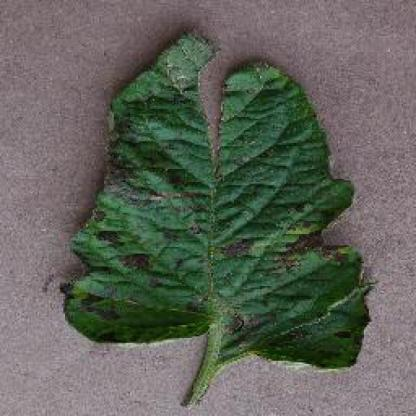Tomato_Blight: (64, 32, 372, 367)
